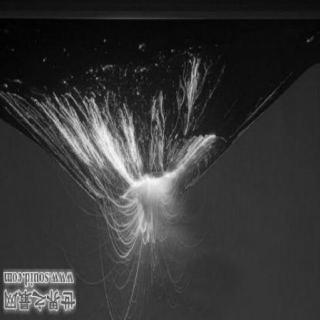Fire: (82, 83, 234, 309)
